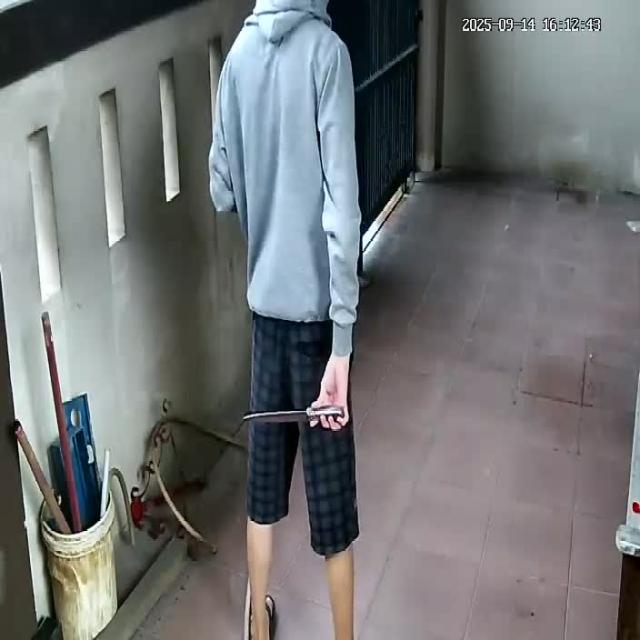senjata_tajam: (242, 409, 316, 427)
